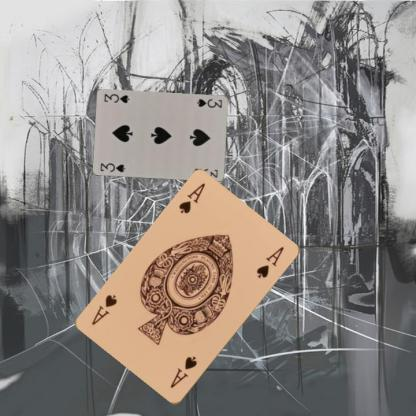3s: (98, 160, 127, 173), (195, 96, 223, 109)
As: (168, 354, 198, 390), (176, 180, 206, 216)
